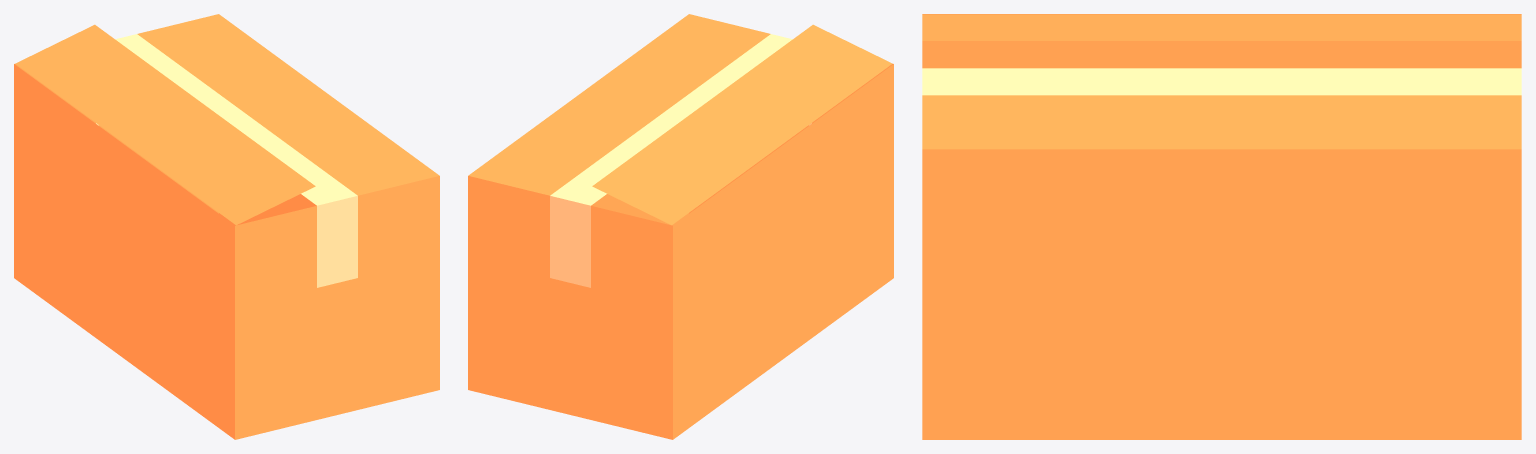
Rendered from BoxRectangle.fbx.
The picture shows the model from 3 angles, left to right: view 1: azimuth 30°, elevation 25°; view 2: azimuth 150°, elevation 25°; view 3: azimuth 270°, elevation 25°; orthographic projection. The views are drawn at different scales.
Visible parts, largest first — view 1: Cube_13; view 2: Cube_13; view 3: Cube_13.
Boxes of the visible parts, bbox=[...] form: Cube_13: bbox=[14, 14, 439, 439]; Cube_13: bbox=[468, 14, 893, 439]; Cube_13: bbox=[922, 14, 1521, 439].
Bounding box in the file's own units: 149 × 163 × 278.
